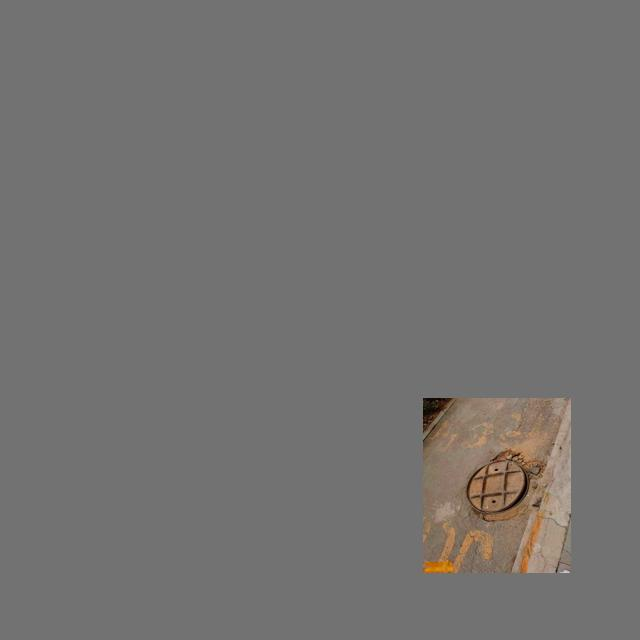circle: (460, 443, 555, 530)
